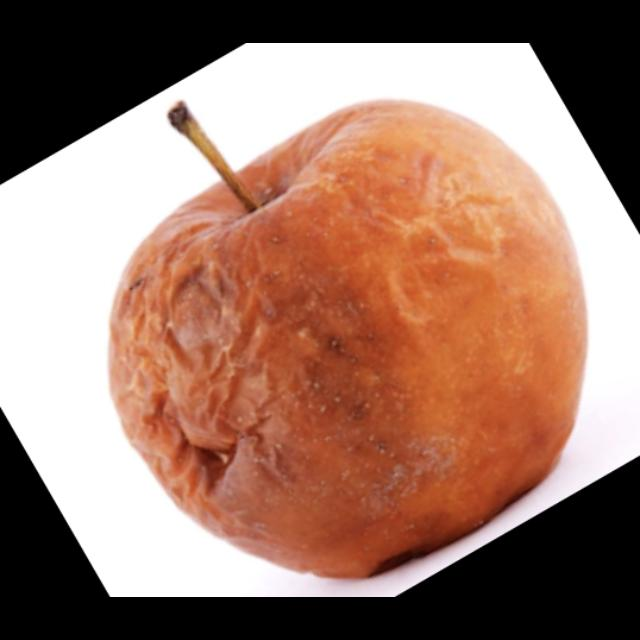Apel Tidak Segar: (98, 96, 594, 586)
